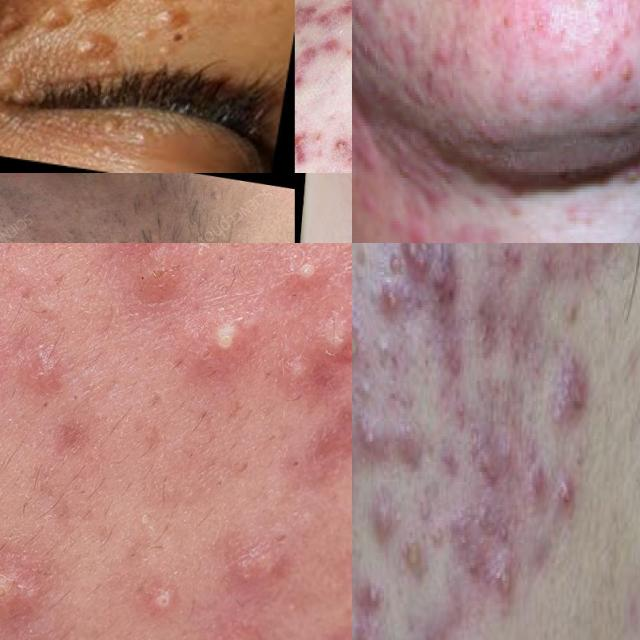acne_scars: (295, 33, 350, 107), (294, 0, 352, 46), (295, 105, 327, 173)
comedone: (373, 323, 396, 378)
crystanlline: (456, 439, 515, 544), (406, 244, 462, 320), (548, 351, 590, 446), (556, 472, 582, 518)
papule: (524, 452, 548, 504)
pustule: (180, 309, 270, 374), (282, 243, 337, 302), (145, 569, 180, 627), (494, 555, 517, 634), (0, 557, 24, 614), (376, 275, 404, 317), (364, 560, 385, 614), (357, 416, 383, 457), (402, 535, 421, 583), (352, 312, 356, 375)
sebo-crystan-conglo: (232, 535, 304, 613), (308, 305, 352, 379), (50, 373, 105, 423)
syringoma: (0, 0, 205, 122)
